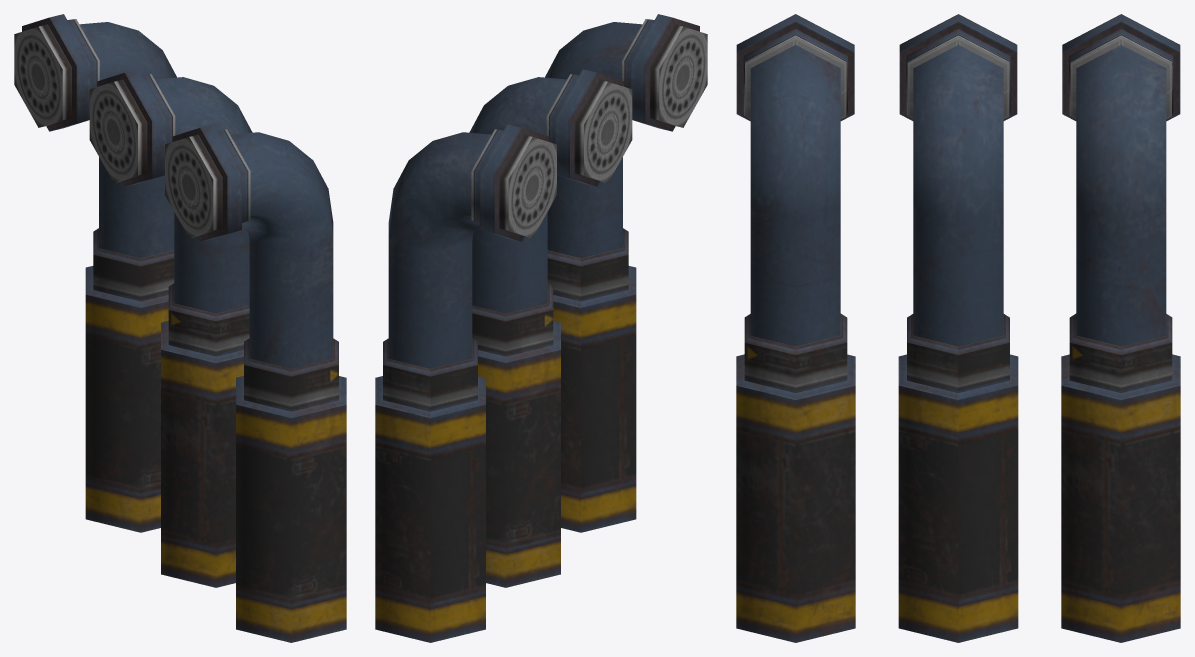
File: Pipe3_End1_L1.fbx
The picture shows the model from 3 angles, left to right: view 1: azimuth 30°, elevation 25°; view 2: azimuth 150°, elevation 25°; view 3: azimuth 270°, elevation 25°; orthographic projection. The views are drawn at different scales.
Visible parts, largest first — view 1: PIpe5_End1_L1; view 2: PIpe5_End1_L1; view 3: PIpe5_End1_L1.
Part boxes in pixels (left/top/right/bottom): PIpe5_End1_L1: left=14, top=14, right=346, bottom=642; PIpe5_End1_L1: left=375, top=14, right=707, bottom=642; PIpe5_End1_L1: left=736, top=14, right=1180, bottom=642.
Bounding box in the file's own units: 20.11 × 62.29 × 45.5.
